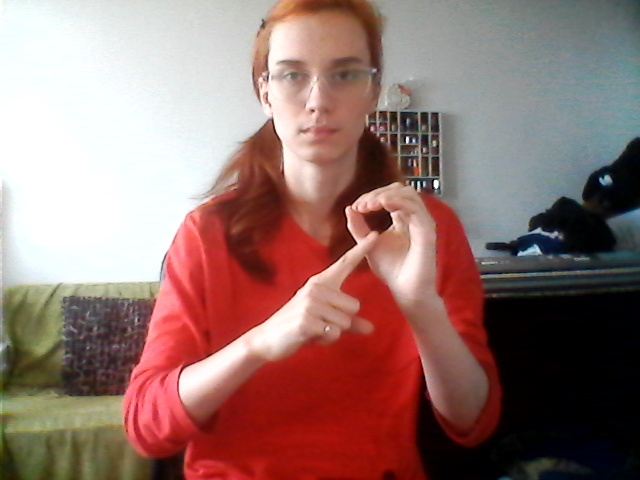q: (249, 169, 460, 372)
